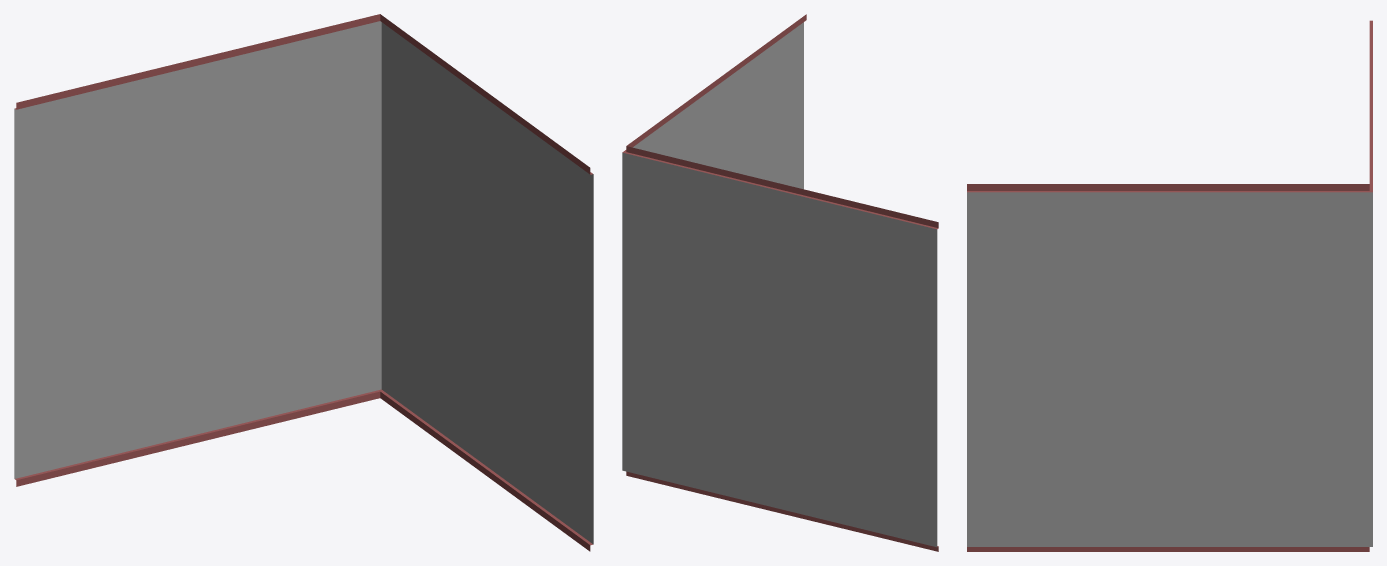
Rendered from Prop_WallIntCorner_3x3_02.fbx.
The picture shows the model from 3 angles, left to right: view 1: azimuth 30°, elevation 25°; view 2: azimuth 150°, elevation 25°; view 3: azimuth 270°, elevation 25°; orthographic projection. The views are drawn at different scales.
Parts seen in each view (by area): view 1: Prop_WallIntCorner_3x3_02; view 2: Prop_WallIntCorner_3x3_02; view 3: Prop_WallIntCorner_3x3_02.
Boxes of the visible parts, bbox=[...] form: Prop_WallIntCorner_3x3_02: bbox=[14, 14, 593, 551]; Prop_WallIntCorner_3x3_02: bbox=[622, 14, 938, 551]; Prop_WallIntCorner_3x3_02: bbox=[967, 20, 1372, 551].
Size of the model in its own units: 300 by 300 by 300.
